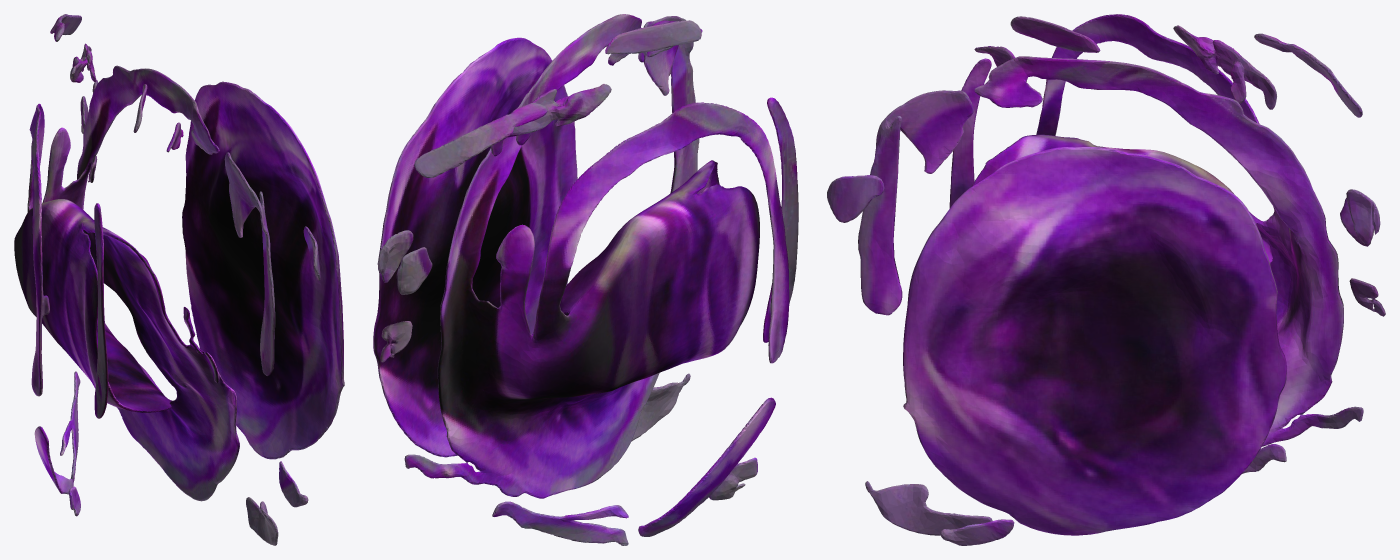
File: psionic_entity_residue.glb
The picture shows the model from 3 angles, left to right: view 1: azimuth 30°, elevation 25°; view 2: azimuth 150°, elevation 25°; view 3: azimuth 270°, elevation 25°; orthographic projection. The views are drawn at different scales.
Bounding box in the file's own units: 1.2 × 1.84 × 1.97.
Materials: 1 (1 with a texture image).
